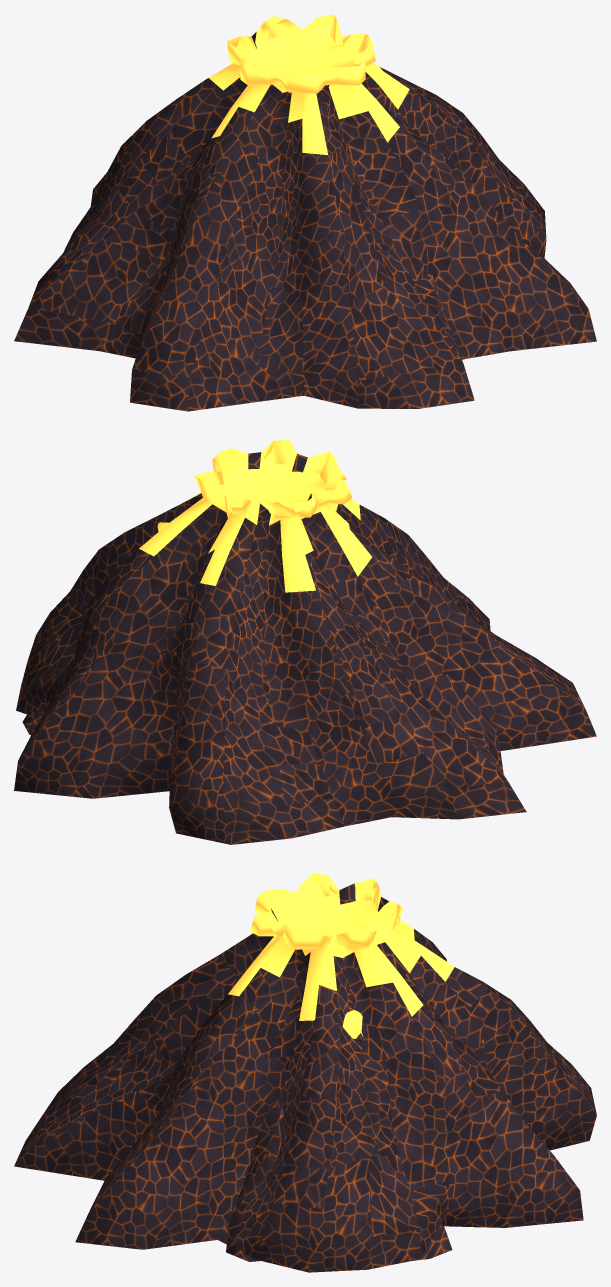
Rendered from prop_mountain_volcano.glb.
The picture shows the model from 3 angles, top to bottom: view 1: azimuth 30°, elevation 25°; view 2: azimuth 150°, elevation 25°; view 3: azimuth 270°, elevation 25°; orthographic projection. The views are drawn at different scales.
Parts seen in each view (by area): view 1: VolcanoMainCaldera; view 2: VolcanoMainCaldera; view 3: VolcanoMainCaldera.
Part boxes in pixels (<box>): VolcanoMainCaldera: <box>14,14,596,411</box>; VolcanoMainCaldera: <box>14,440,596,844</box>; VolcanoMainCaldera: <box>14,873,596,1272</box>.
Size of the model in its own units: 2.12 by 1.02 by 2.09.
Materials: 2 (1 with a texture image).
